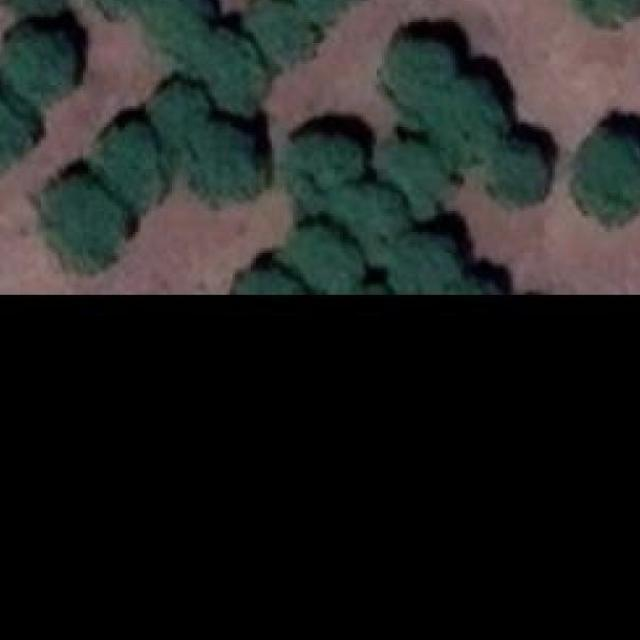Tree: (0, 22, 75, 111), (576, 125, 640, 219), (52, 178, 120, 264), (432, 82, 498, 164), (193, 124, 264, 195), (290, 134, 358, 206), (337, 185, 408, 253), (390, 139, 456, 211), (96, 122, 156, 200), (292, 222, 358, 290), (208, 32, 263, 106), (398, 232, 460, 293), (256, 0, 314, 64), (395, 43, 452, 104), (151, 0, 209, 59), (494, 142, 547, 205), (153, 80, 209, 135), (0, 90, 31, 177), (235, 272, 306, 292), (578, 0, 640, 22), (295, 0, 363, 17), (100, 0, 170, 14), (0, 0, 64, 9)
